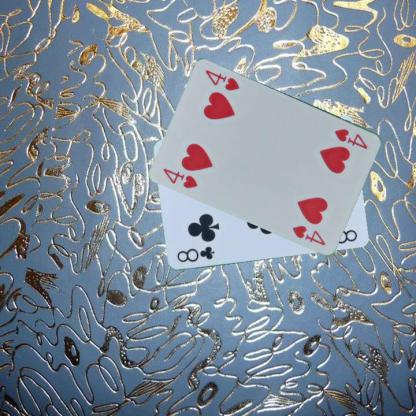4h: (161, 165, 200, 190), (332, 126, 369, 150)
8c: (174, 244, 215, 264)
